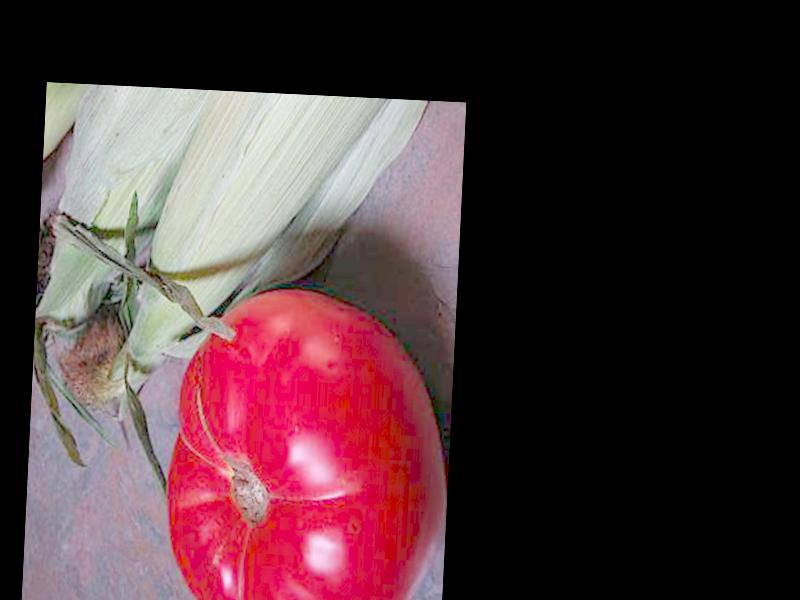Tomato: (159, 285, 453, 600)
